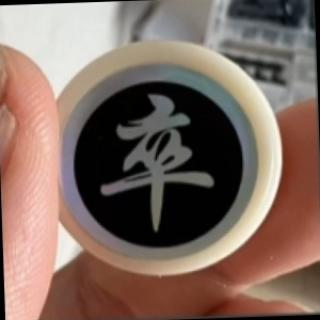qizi: (49, 39, 290, 273)
